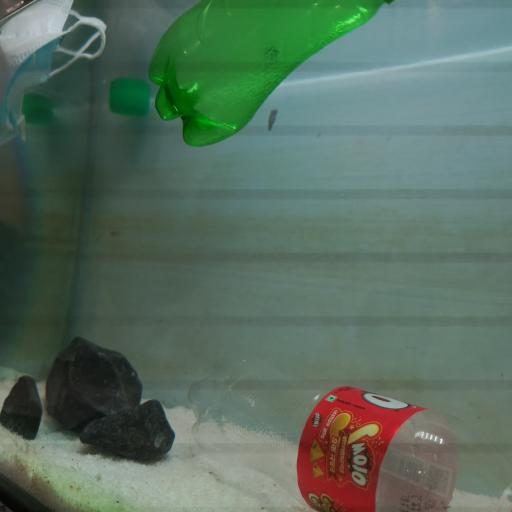bottle_cap: (109, 85, 149, 115)
mask: (0, 0, 106, 145)
plastic_bottle: (185, 355, 512, 512), (150, 0, 386, 148)
